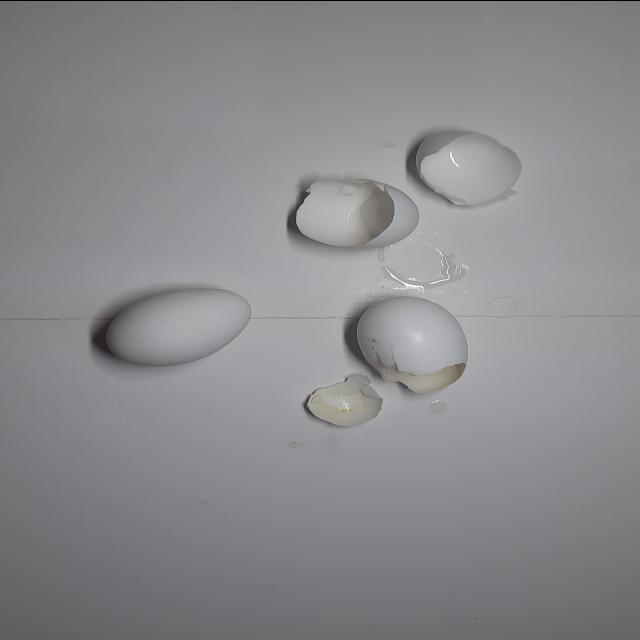egg shell: (292, 128, 524, 250), (302, 294, 470, 426), (102, 286, 254, 367), (292, 176, 422, 250), (414, 128, 524, 206)
